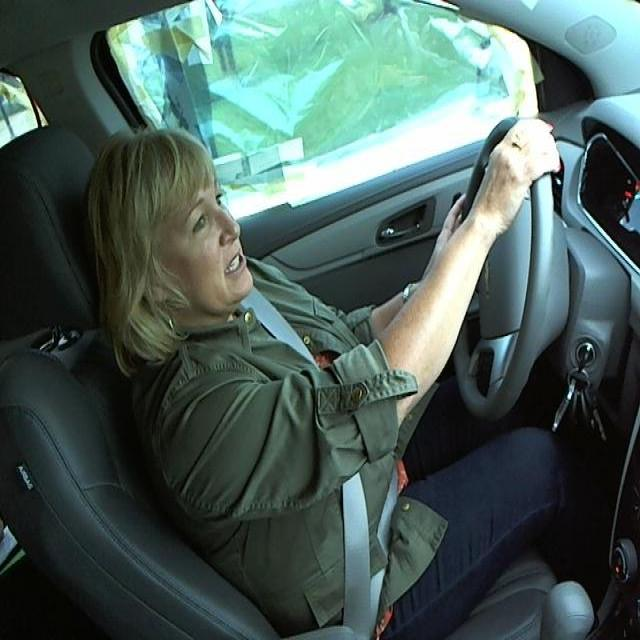without_using_phone: (60, 117, 288, 363)
